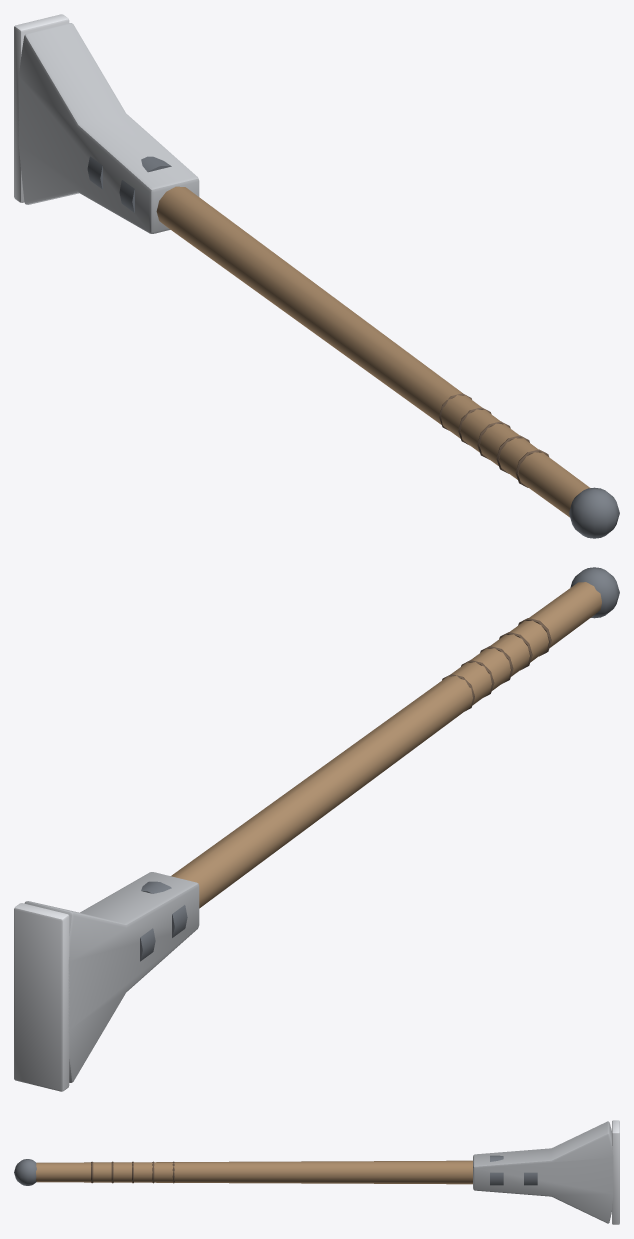
Rendered from Axe.fbx.
3 views of the same model, one above another, from view 1: azimuth 30°, elevation 25°; view 2: azimuth 150°, elevation 25°; view 3: azimuth 270°, elevation 25° (orthographic). The views are drawn at different scales.
Parts seen in each view (by area): view 1: Axe; view 2: Axe; view 3: Axe.
Boxes of the visible parts, x1,y1,x2,y2 form: Axe: (14, 14, 619, 538); Axe: (14, 567, 619, 1091); Axe: (14, 1120, 619, 1224).
Size of the model in its own units: 5 by 15 by 89.1.
